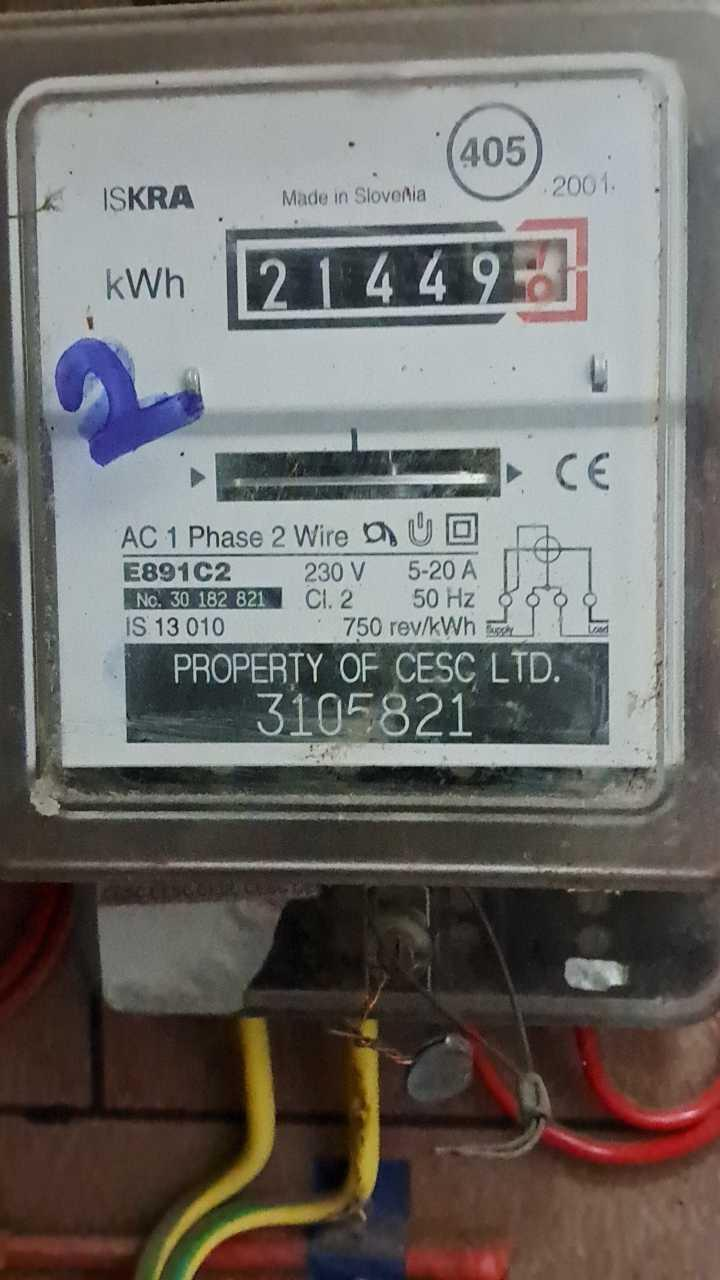meter_readings: (240, 246, 590, 316)
serial_number: (254, 684, 479, 741)
